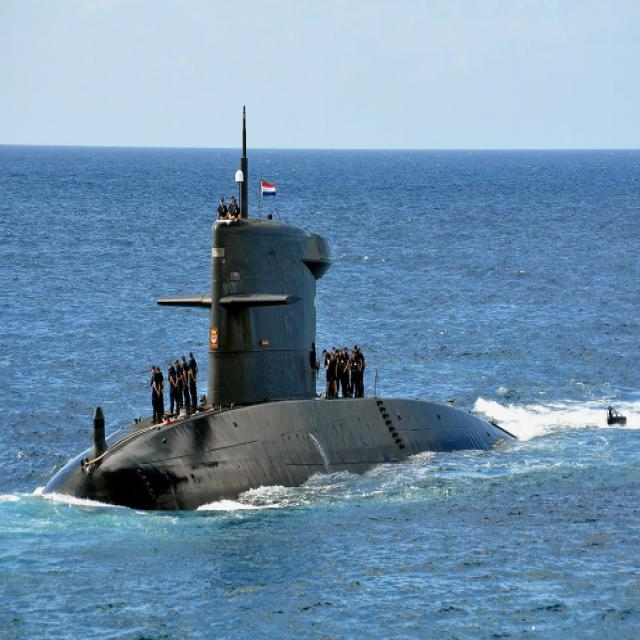submarine: (39, 85, 630, 502)
